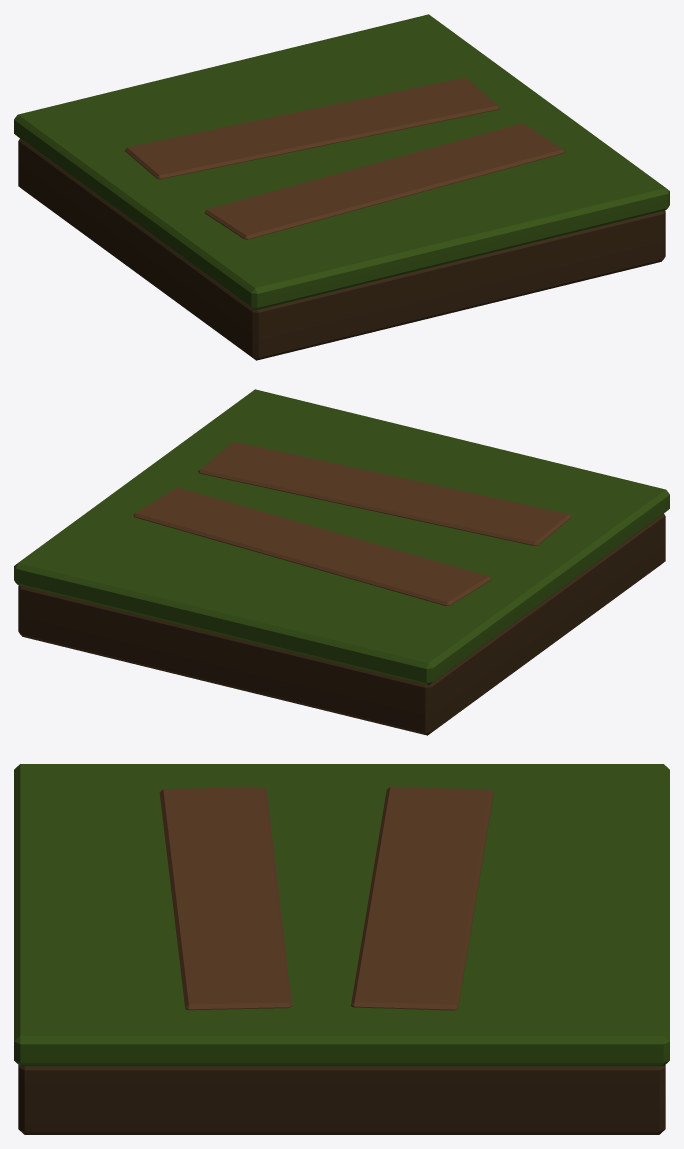
The model's file is swamp.glb.
3 views of the same model, one above another, from view 1: azimuth 30°, elevation 25°; view 2: azimuth 150°, elevation 25°; view 3: azimuth 270°, elevation 25° (orthographic). The views are drawn at different scales.
Parts seen in each view (by area): view 1: swamp; view 2: swamp; view 3: swamp.
Part boxes in pixels (box(x1,y1,x2,y2)): swamp: box(14, 14, 669, 360); swamp: box(14, 389, 669, 735); swamp: box(14, 764, 669, 1134).
Size of the model in its own units: 1.47 by 0.26 by 1.47.
